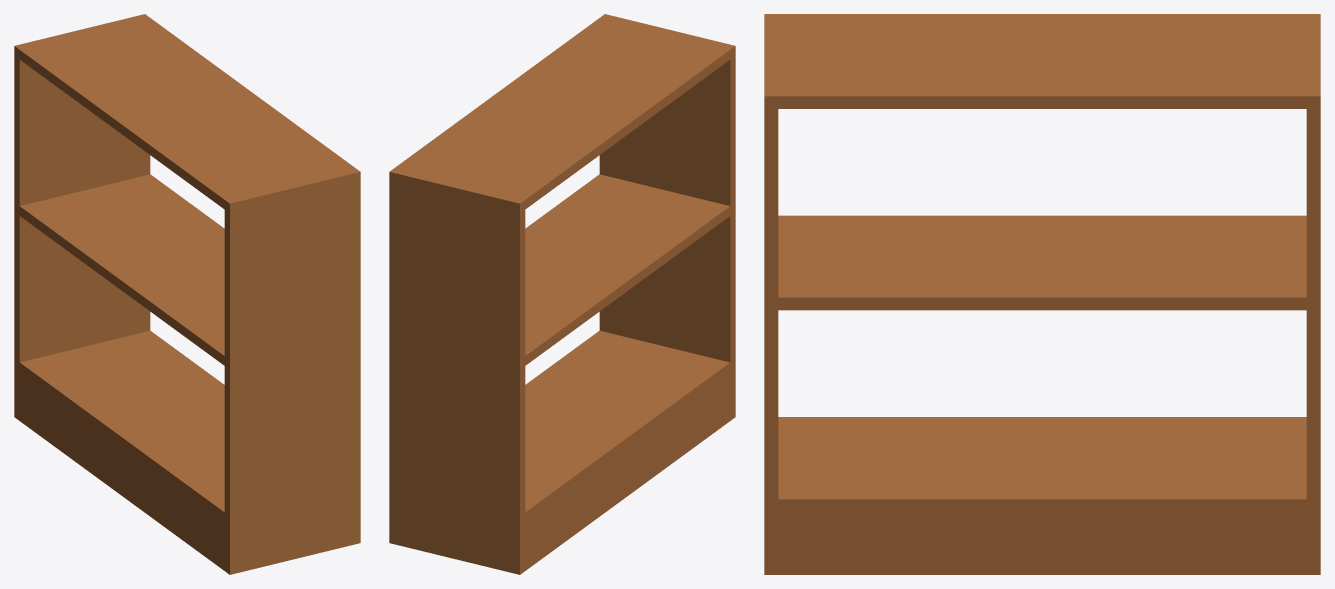
The model's file is shelves_02.dae.
The picture shows the model from 3 angles, left to right: view 1: azimuth 30°, elevation 25°; view 2: azimuth 150°, elevation 25°; view 3: azimuth 270°, elevation 25°; orthographic projection. The views are drawn at different scales.
Parts seen in each view (by area): view 1: Untitled; view 2: Untitled; view 3: Untitled.
Part boxes in pixels (<box>): Untitled: <box>14,14,360,574</box>; Untitled: <box>389,14,735,574</box>; Untitled: <box>764,14,1320,574</box>.
Size of the model in its own units: 0.42 by 1.2 by 1.14.
1 material, 1 textured.
